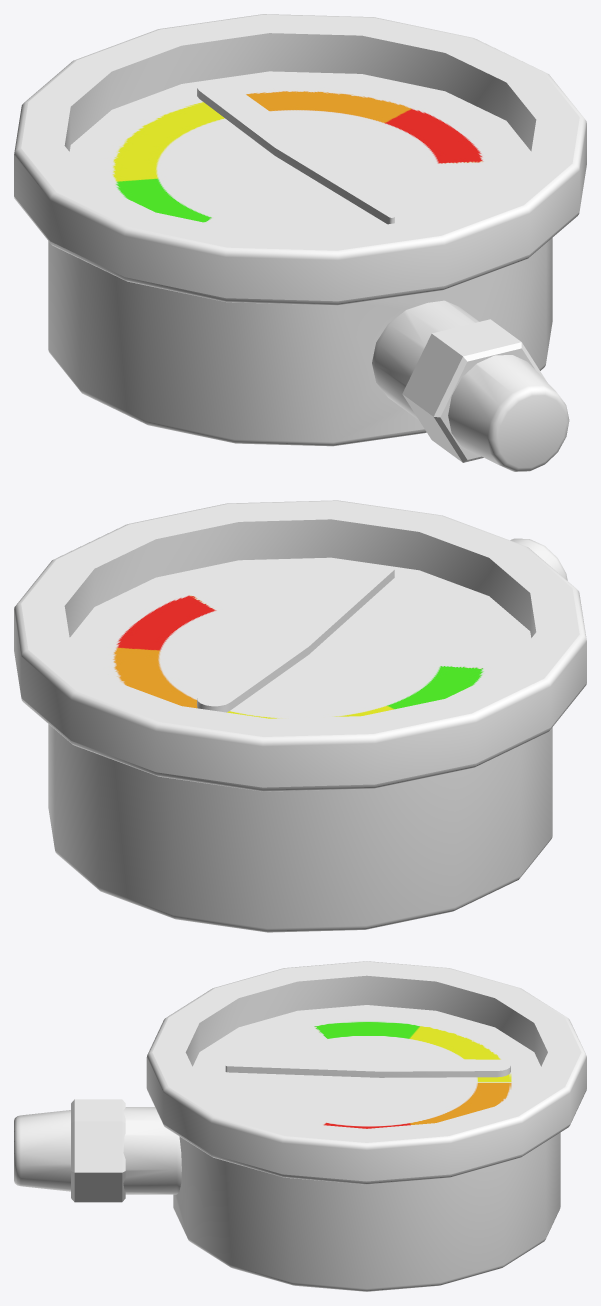
Rendered from Pressure_Gauge_0001.fbx.
3 views of the same model, one above another, from view 1: azimuth 30°, elevation 25°; view 2: azimuth 150°, elevation 25°; view 3: azimuth 270°, elevation 25° (orthographic). The views are drawn at different scales.
Visible parts, largest first — view 1: Null, Null_Cylinder, Cylinder; view 2: Null, Null_Cylinder, Cylinder; view 3: Null, Null_Cylinder, Cylinder.
Boxes of the visible parts, x1=… form: Null: x1=14, y1=14, x2=586, y2=471; Null_Cylinder: x1=69, y1=71, x2=531, y2=232; Cylinder: x1=197, y1=79, x2=394, y2=224; Null: x1=14, y1=500, x2=586, y2=932; Null_Cylinder: x1=69, y1=557, x2=531, y2=718; Cylinder: x1=197, y1=568, x2=394, y2=712; Null: x1=14, y1=961, x2=586, y2=1291; Null_Cylinder: x1=192, y1=1005, x2=540, y2=1128; Cylinder: x1=225, y1=1059, x2=510, y2=1077.
Size of the model in its own units: 6.46 by 2.58 by 8.4.
1 material, 1 textured.
